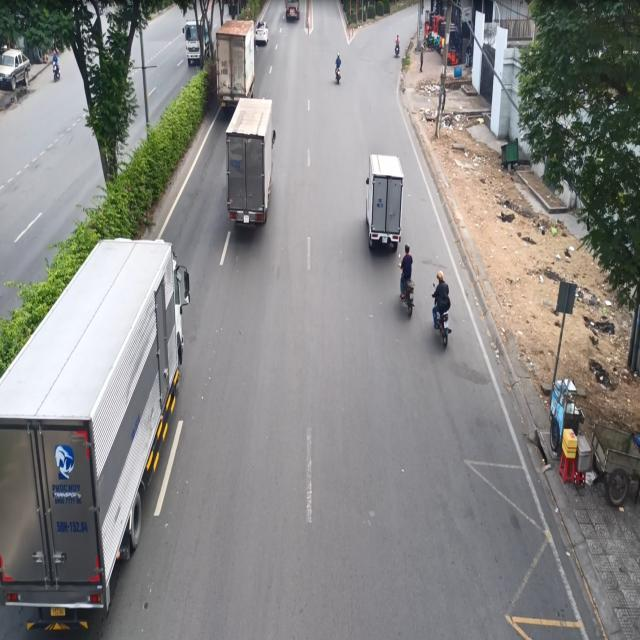motorbike: (428, 271, 453, 346), (397, 237, 415, 322), (332, 51, 343, 87)
truck: (0, 229, 192, 639), (224, 90, 275, 234), (361, 150, 403, 246), (216, 14, 253, 102), (256, 178, 257, 183)
